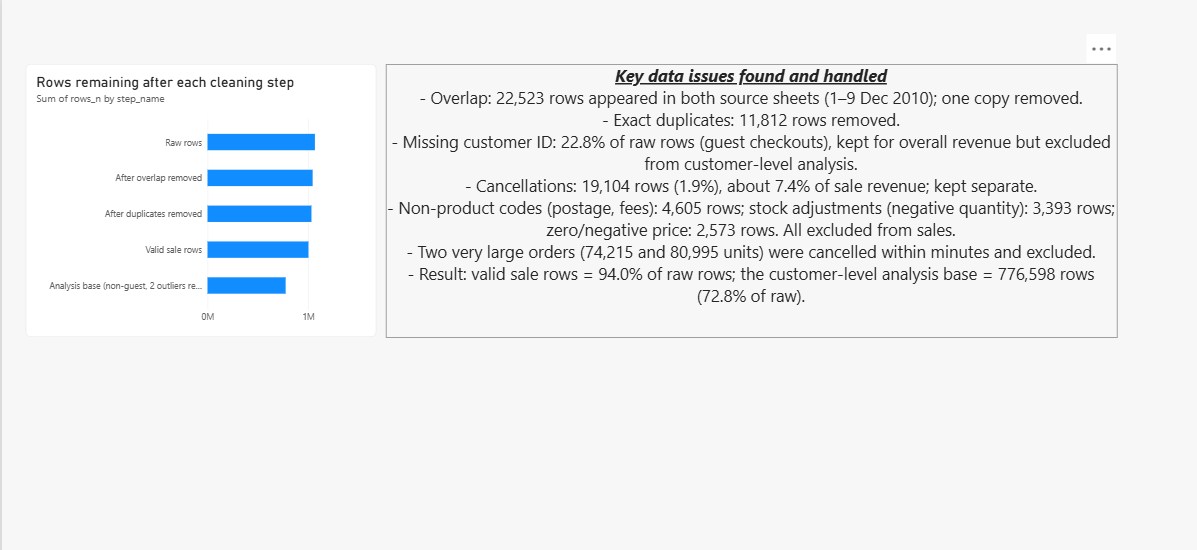

The page's visual inventory and layout, read from the dashboard file:
{"tool":"powerbi","page":{"name":"Data Quality","canvas":[1920,1080],"ordinal":4},"visuals":[{"type":"barChart","title":"Rows remaining after each cleaning step","fields":{"Category":["cleaning_waterfall.step_name"],"Y":["Sum(cleaning_waterfall.rows_n)"]},"box":[39,103.9,560.5,437.2],"z":0},{"type":"textbox","box":[614.6,103.9,1168.6,437.2],"z":1}]}

Visuals, with their boxes on the page's 1920x1080 design canvas (x1, y1, x2, y2). These are canvas units, not pixel positions in the 1197x550 screenshot, which may show the page scaled, cropped or inside an application window:
"Rows remaining after each cleaning step" barChart: [39, 104, 600, 541]
textbox: [615, 104, 1783, 541]
